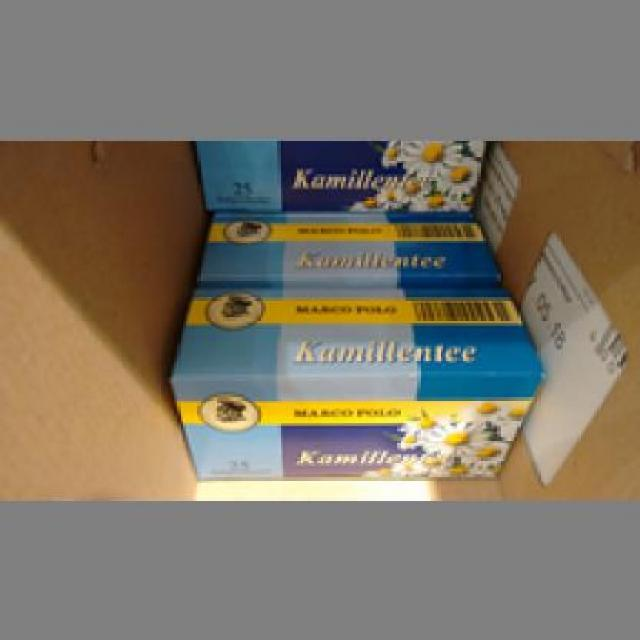Tea: (157, 282, 546, 478), (194, 208, 500, 282), (191, 136, 480, 210)
